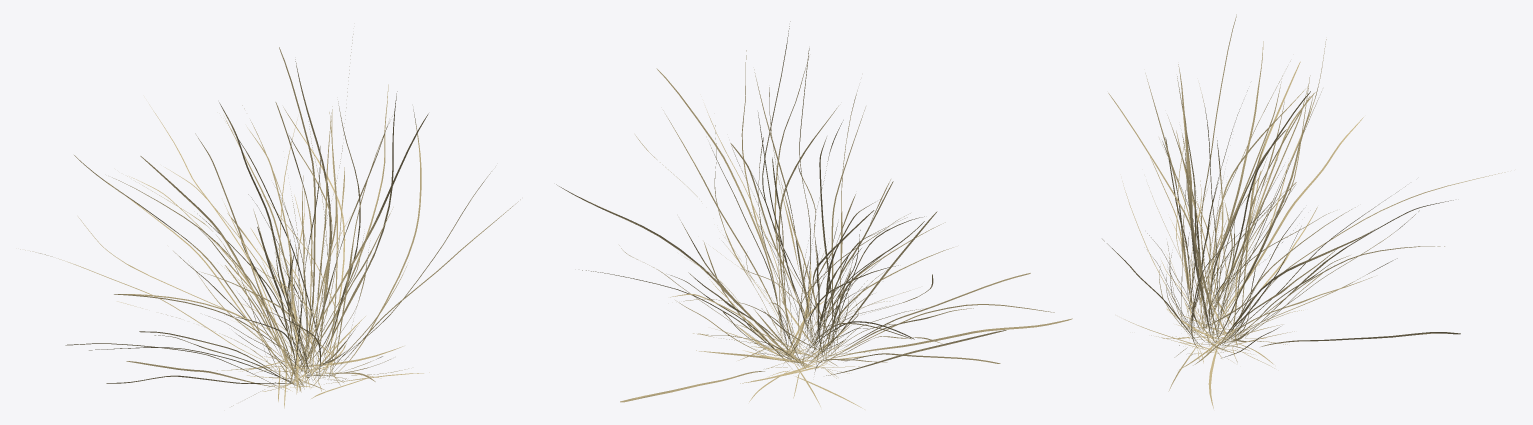
The model's file is grass7.fbx.
3 renders of one model, left to right at view 1: azimuth 30°, elevation 25°; view 2: azimuth 150°, elevation 25°; view 3: azimuth 270°, elevation 25°, orthographic. The views are drawn at different scales.
Visible parts, largest first — view 1: GS Dryland thin 01; view 2: GS Dryland thin 01; view 3: GS Dryland thin 01.
Part boxes in pixels (left/top/right/bottom): GS Dryland thin 01: left=20, top=34, right=520, bottom=408; GS Dryland thin 01: left=556, top=21, right=1072, bottom=409; GS Dryland thin 01: left=1102, top=14, right=1505, bottom=408.
Bounding box in the file's own units: 36.43 × 30.18 × 33.21.
